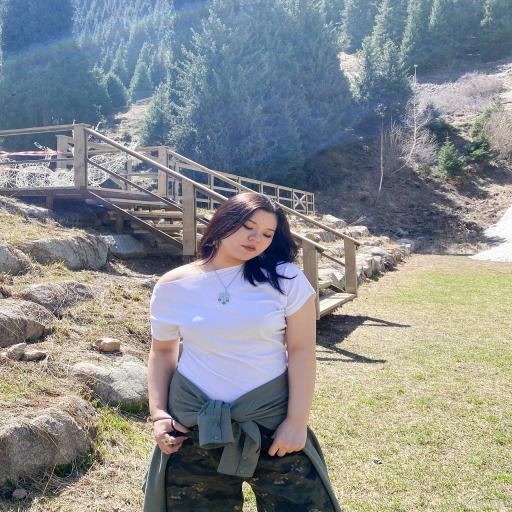laptop: (144, 192, 340, 511)
sofa: (95, 190, 183, 246)
